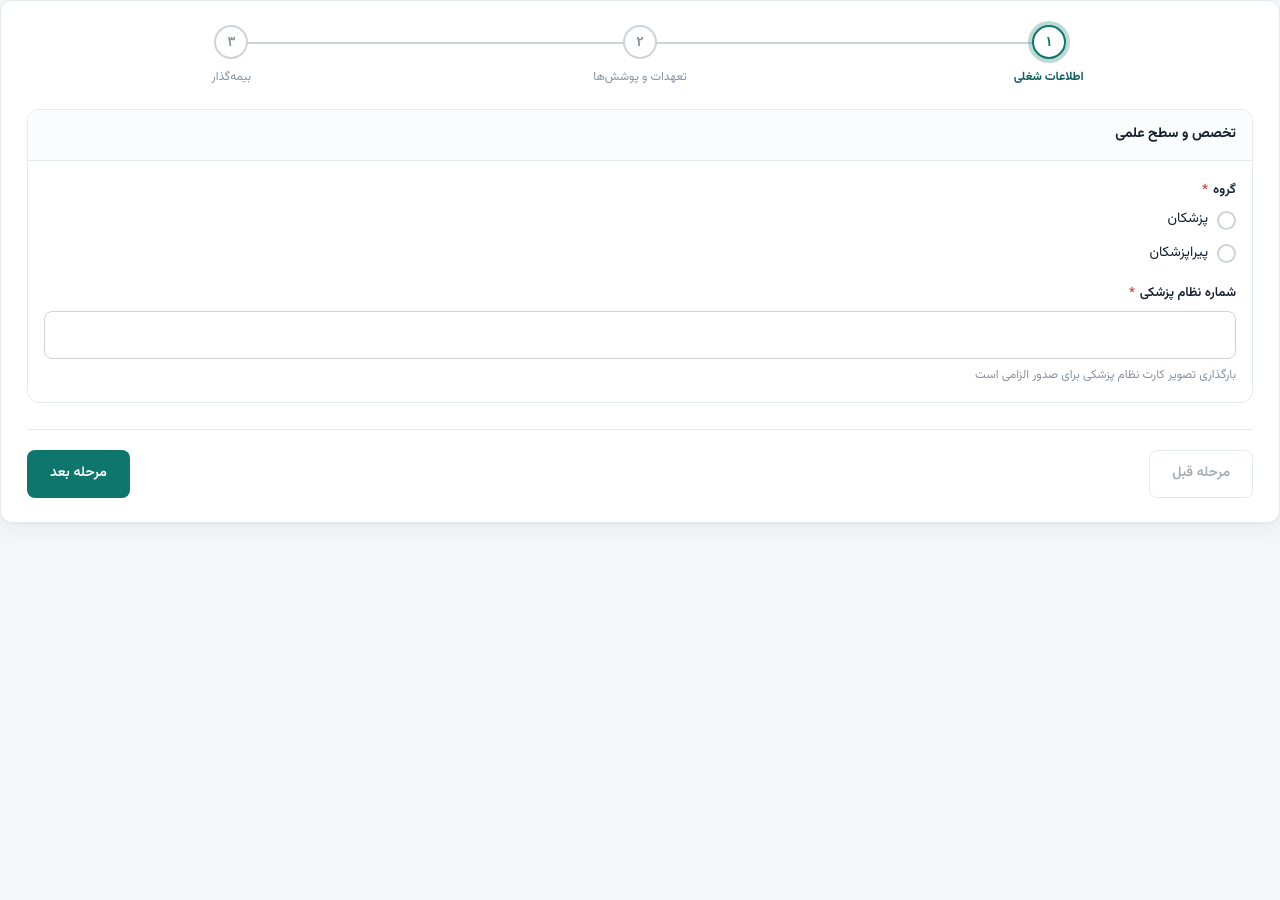
Test case: medical-liability wizard branching › switches to the paramedic fields after picking پیراپزشکان
The width and height of the screenshot is (1280, 900).
Click the text "پیراپزشکان". click: (1179, 254)
box: [1149,242,1208,266]
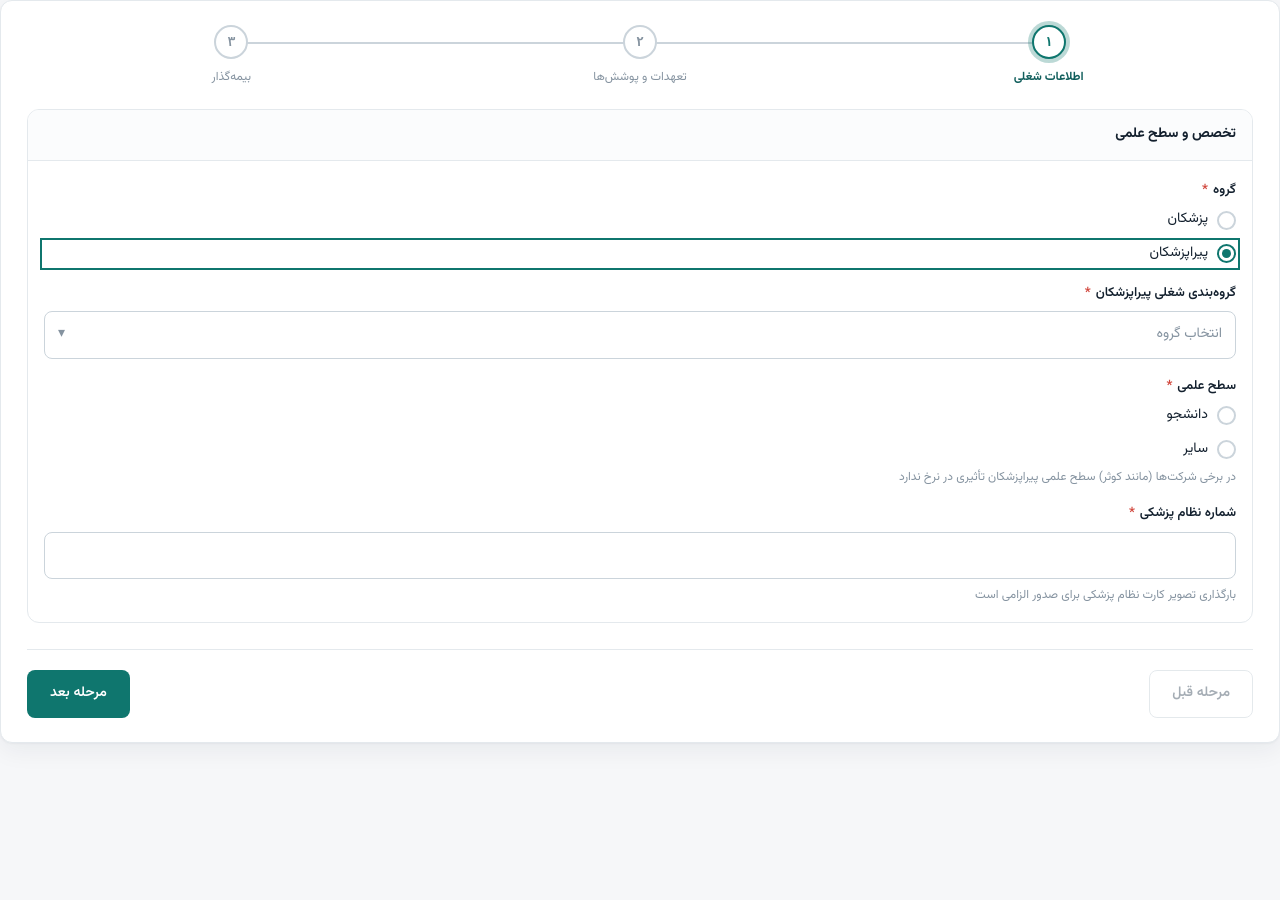
Expected: the text "گروه‌بندی شغلی پیراپزشکان" is shown, [1096,283,1236,303]
